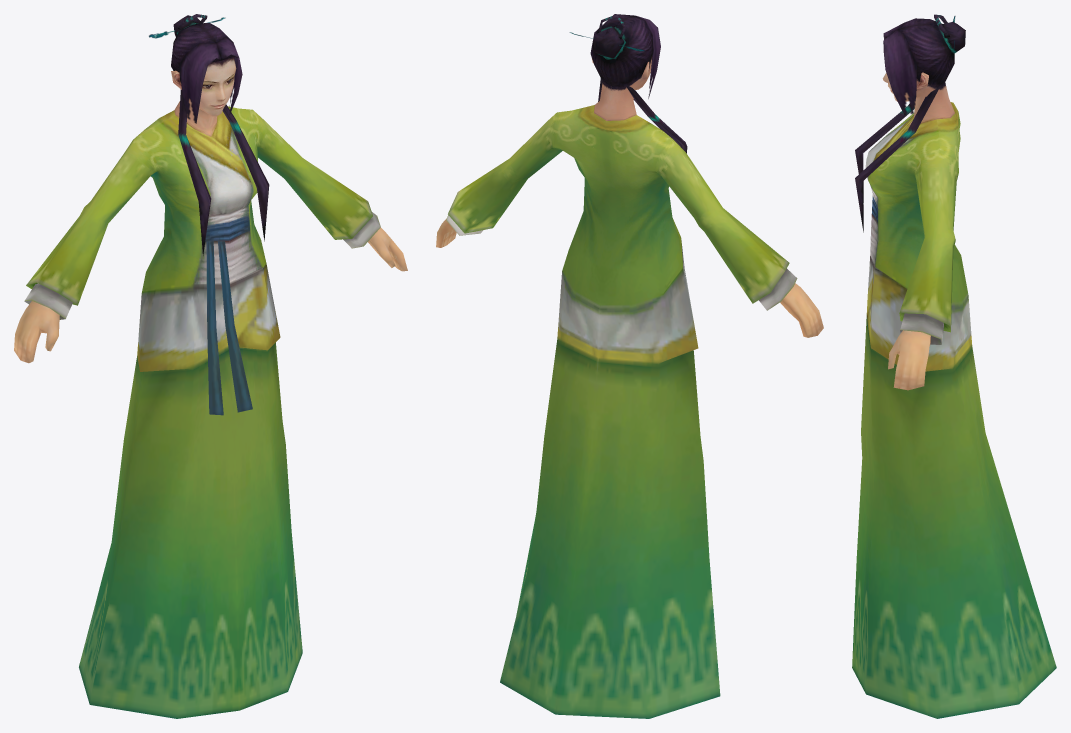
The model's file is girl.glb.
3 renders of one model, left to right at view 1: azimuth 30°, elevation 25°; view 2: azimuth 150°, elevation 25°; view 3: azimuth 270°, elevation 25°, orthographic.
Parts seen in each view (by area): view 1: Element Client-31e83fe8.obj_0, Object_6; view 2: Element Client-31e83fe8.obj_0, Object_6; view 3: Element Client-31e83fe8.obj_0, Object_6.
Part boxes in pixels (box(x1,y1,x2,y2)): Element Client-31e83fe8.obj_0: box(14, 14, 407, 718); Object_6: box(149, 17, 242, 123); Element Client-31e83fe8.obj_0: box(436, 14, 823, 718); Object_6: box(569, 14, 660, 98); Element Client-31e83fe8.obj_0: box(852, 14, 1056, 718); Object_6: box(883, 16, 955, 114).
Bounding box in the file's own units: 1.08 × 1.8 × 0.5115.
Materials: 2 (2 with a texture image).
